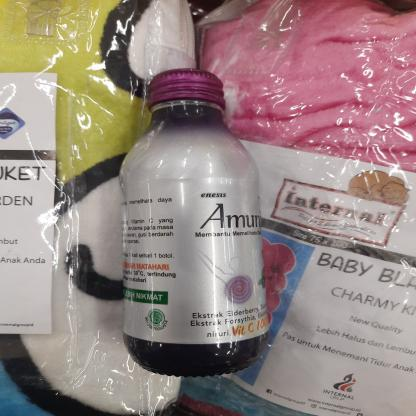bottle: (116, 61, 274, 378)
